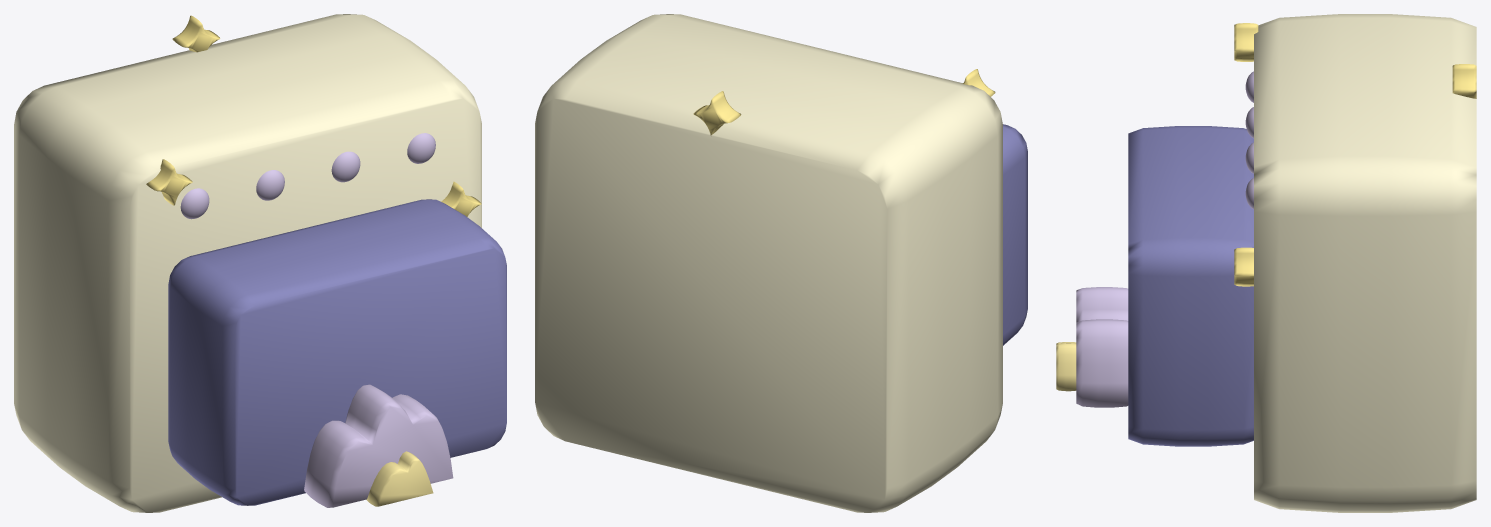
File: decor_1_star.glb
3 views of the same model, side by side, from view 1: azimuth 30°, elevation 25°; view 2: azimuth 150°, elevation 25°; view 3: azimuth 270°, elevation 25° (orthographic). The views are drawn at different scales.
Parts seen in each view (by area): view 1: decor_1_star; view 2: decor_1_star; view 3: decor_1_star.
Boxes of the visible parts, left/top/right/bottom form: decor_1_star: left=14, top=14, right=506, bottom=512; decor_1_star: left=535, top=14, right=1027, bottom=512; decor_1_star: left=1056, top=14, right=1476, bottom=512.
Bounding box in the file's own units: 14.91 × 14.82 × 15.02.
